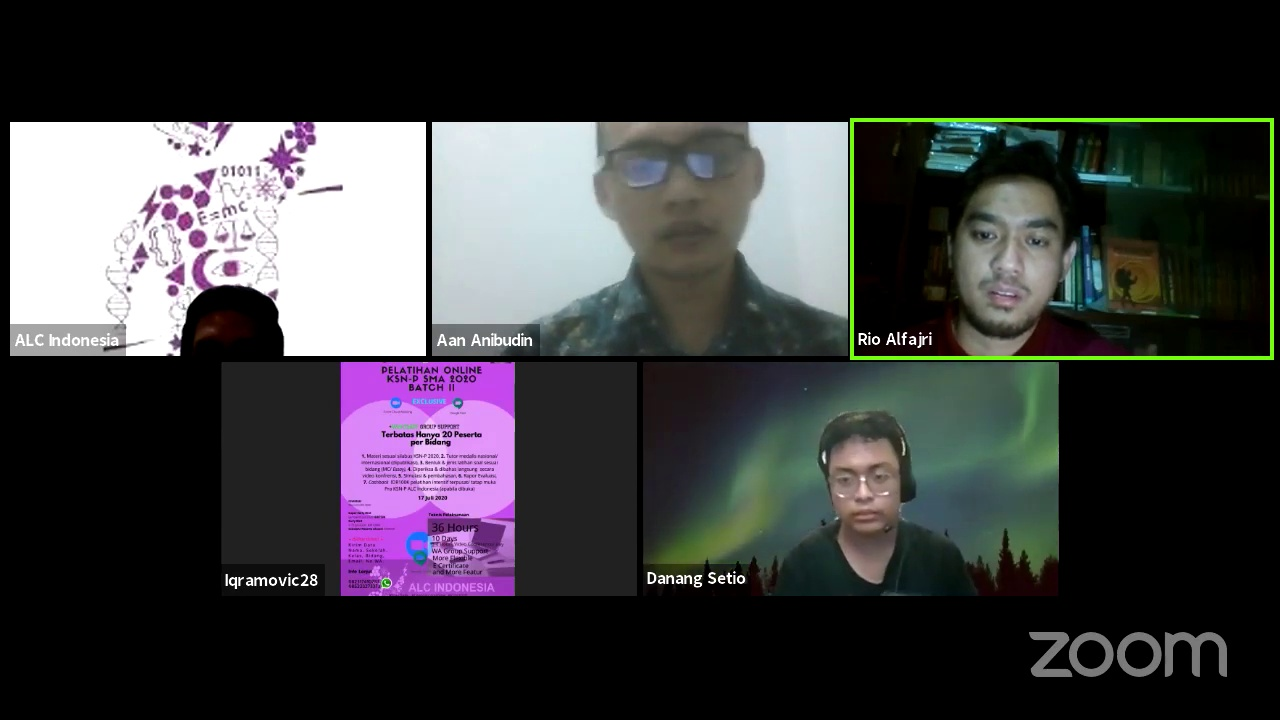Distracted: (588, 133, 771, 287)
Not Distracted: (931, 169, 1081, 350), (824, 419, 915, 532)
